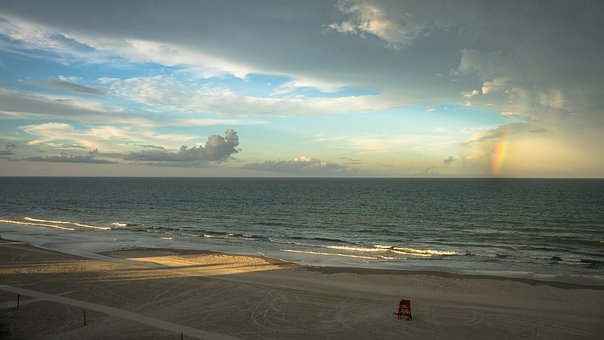beach: (4, 178, 600, 340)
sky: (1, 3, 599, 176)
